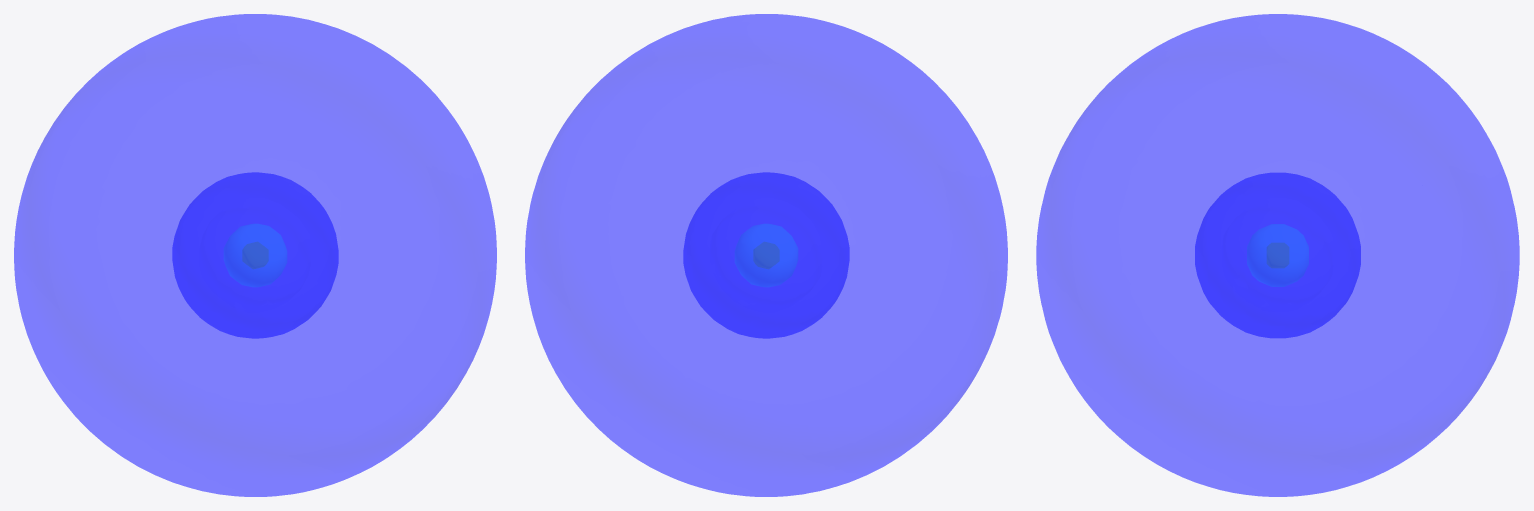
File: orbital_n2_l0_m0_complex_multilayer.fbx
3 renders of one model, left to right at view 1: azimuth 30°, elevation 25°; view 2: azimuth 150°, elevation 25°; view 3: azimuth 270°, elevation 25°, orthographic.
Visible parts, largest first — view 1: orbital_n2_l0_m0_complex_multilayer; view 2: orbital_n2_l0_m0_complex_multilayer; view 3: orbital_n2_l0_m0_complex_multilayer.
Part boxes in pixels (left/top/right/bottom): orbital_n2_l0_m0_complex_multilayer: left=14, top=14, right=496, bottom=496; orbital_n2_l0_m0_complex_multilayer: left=525, top=14, right=1007, bottom=496; orbital_n2_l0_m0_complex_multilayer: left=1036, top=14, right=1519, bottom=496.
Size of the model in its own units: 1442 by 1442 by 1442.
